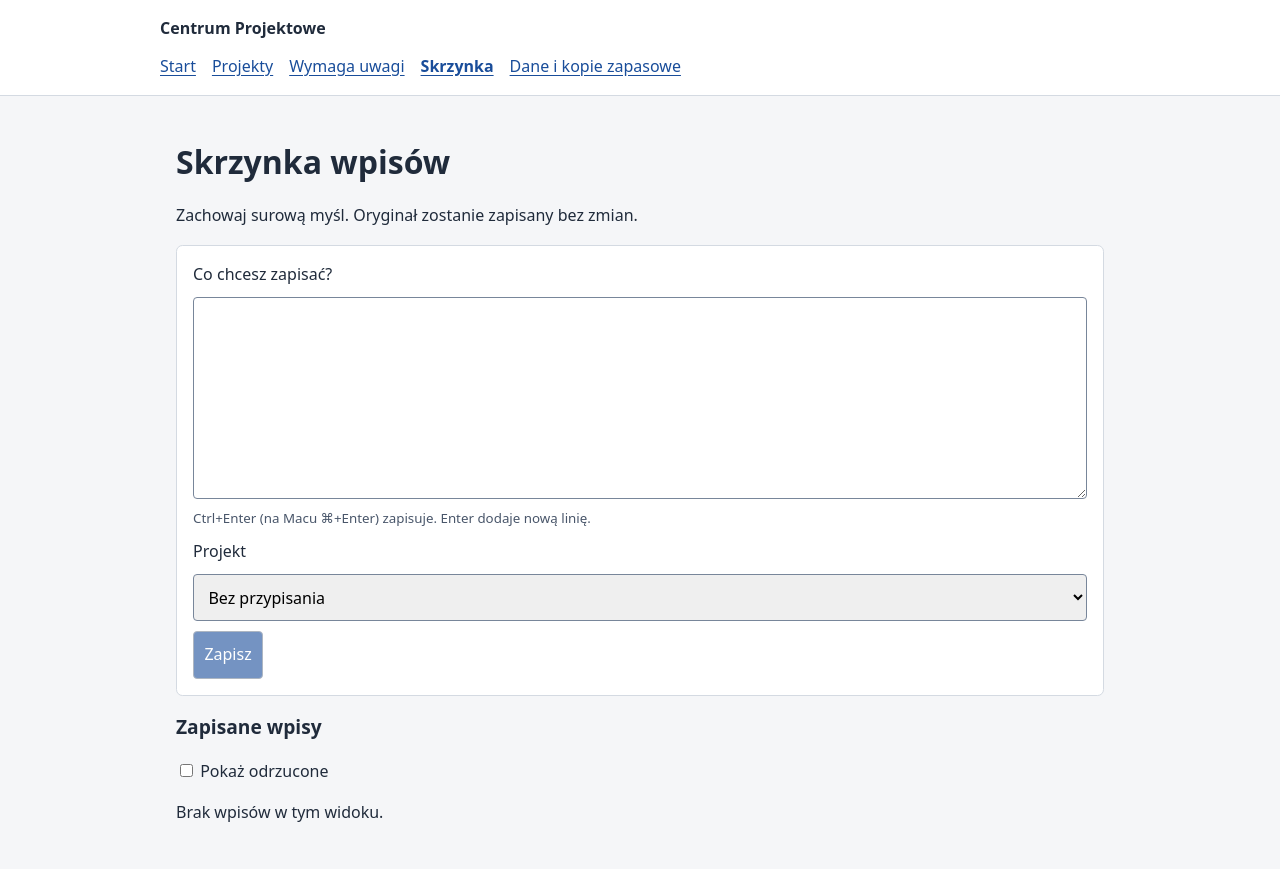
Shell aplikacji › zachowuje treść formularza po błędzie zapisu
This screenshot has width=1280, height=869.
Type "Nie zgub tej myśli" into the text box labelled "Co chcesz zapisać?" at (640, 398), box [193,297,1087,499]
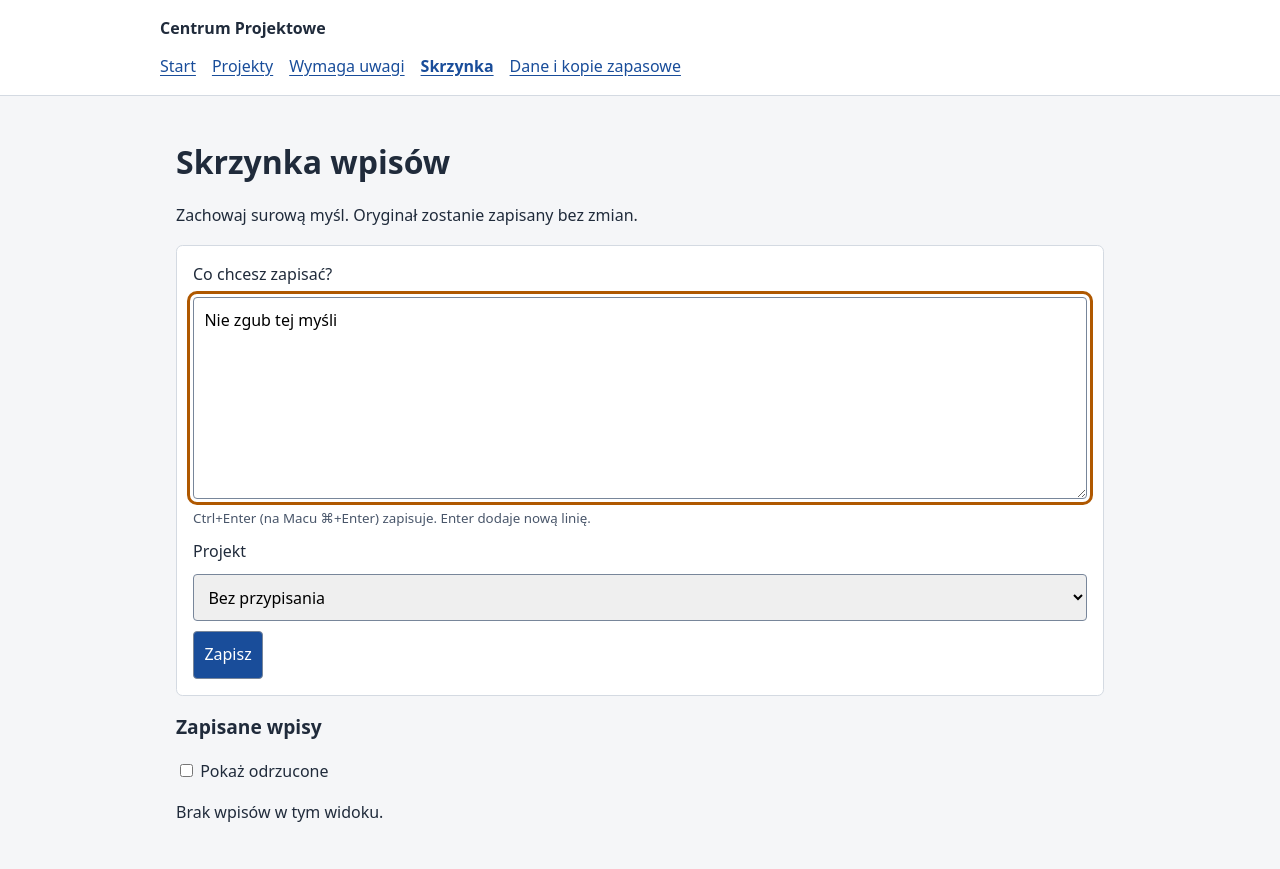
Click the button "Zapisz" at (228, 655), box [193,631,263,679]
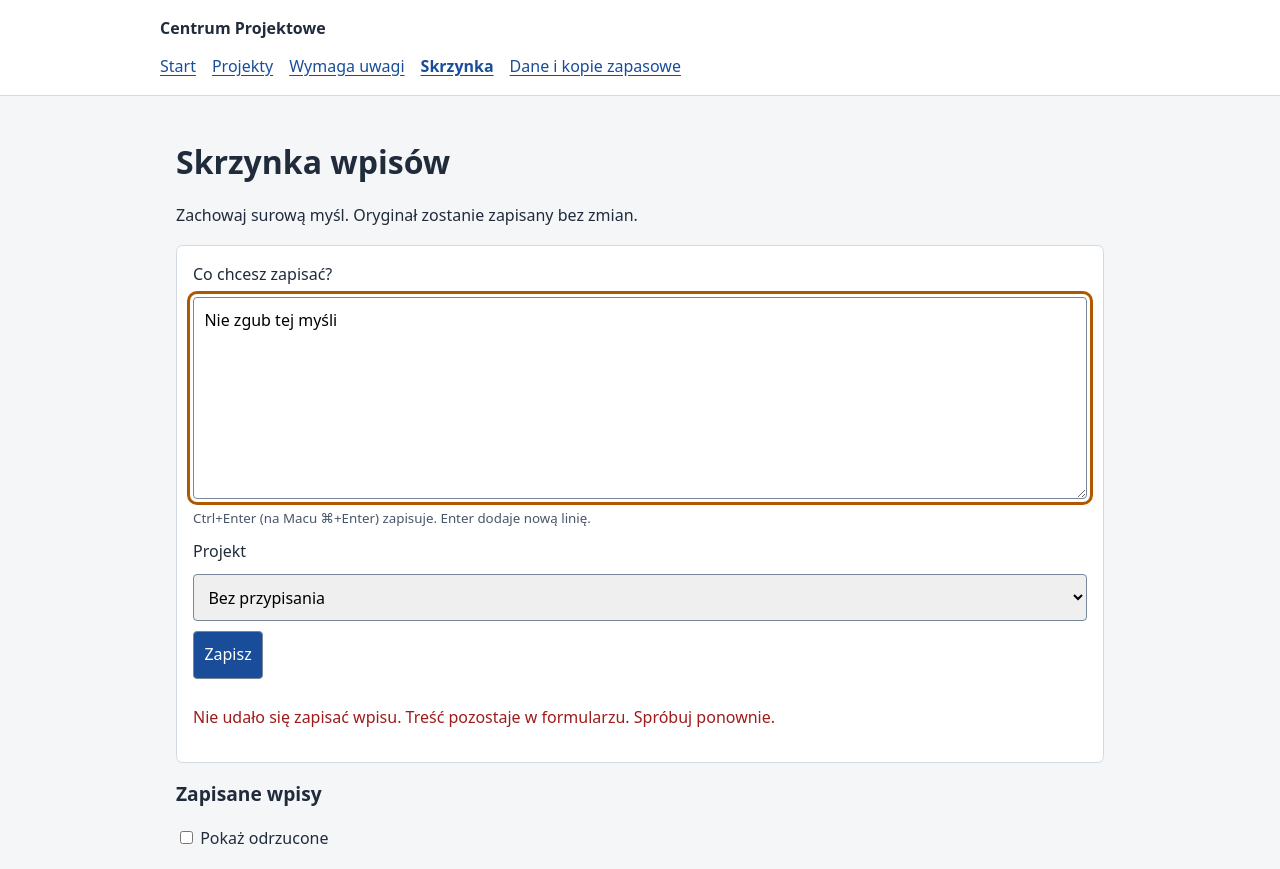
Result: the message shows "Treść pozostaje" at [193,706,775,728]
